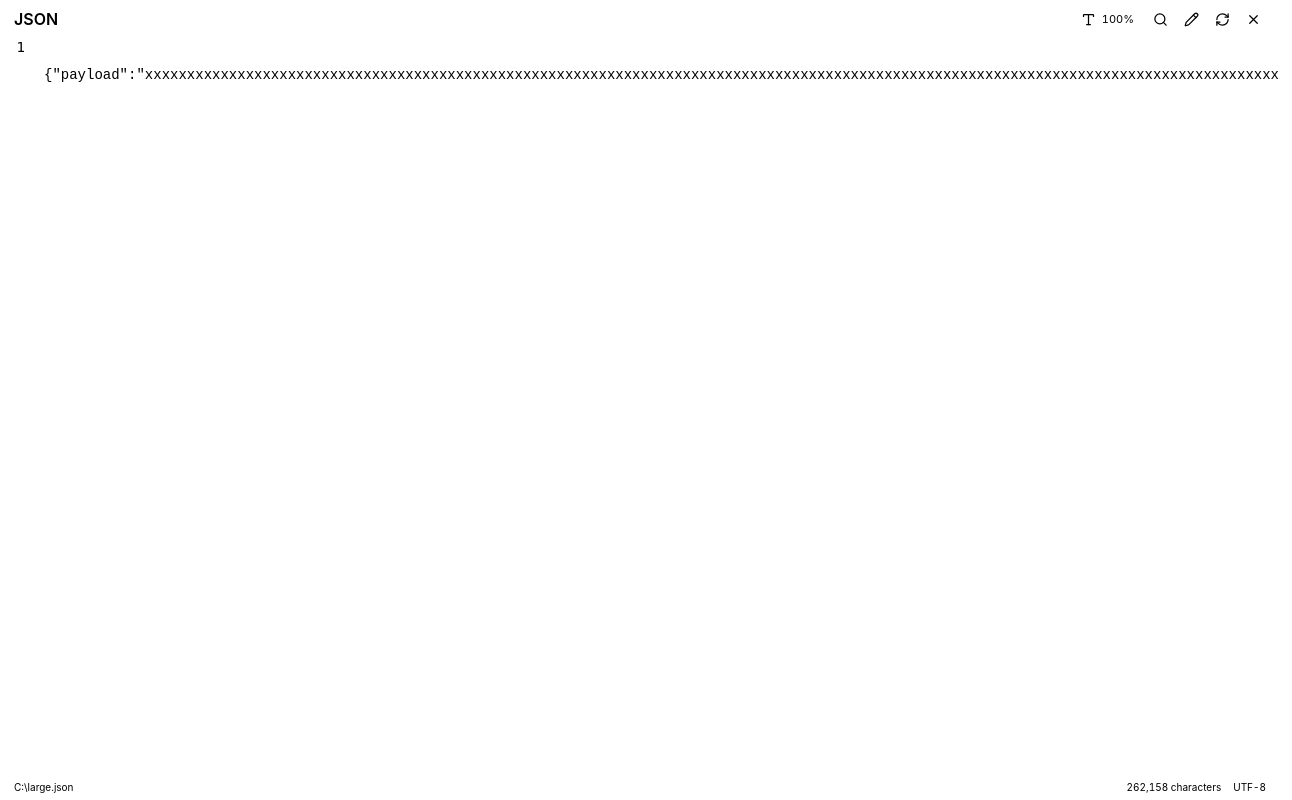
MarkdownViewer saving › defers live validation for large JSON while retaining save-time validation
Click the button titled "Edit". click: (1191, 19)
box: [1178,6,1204,32]
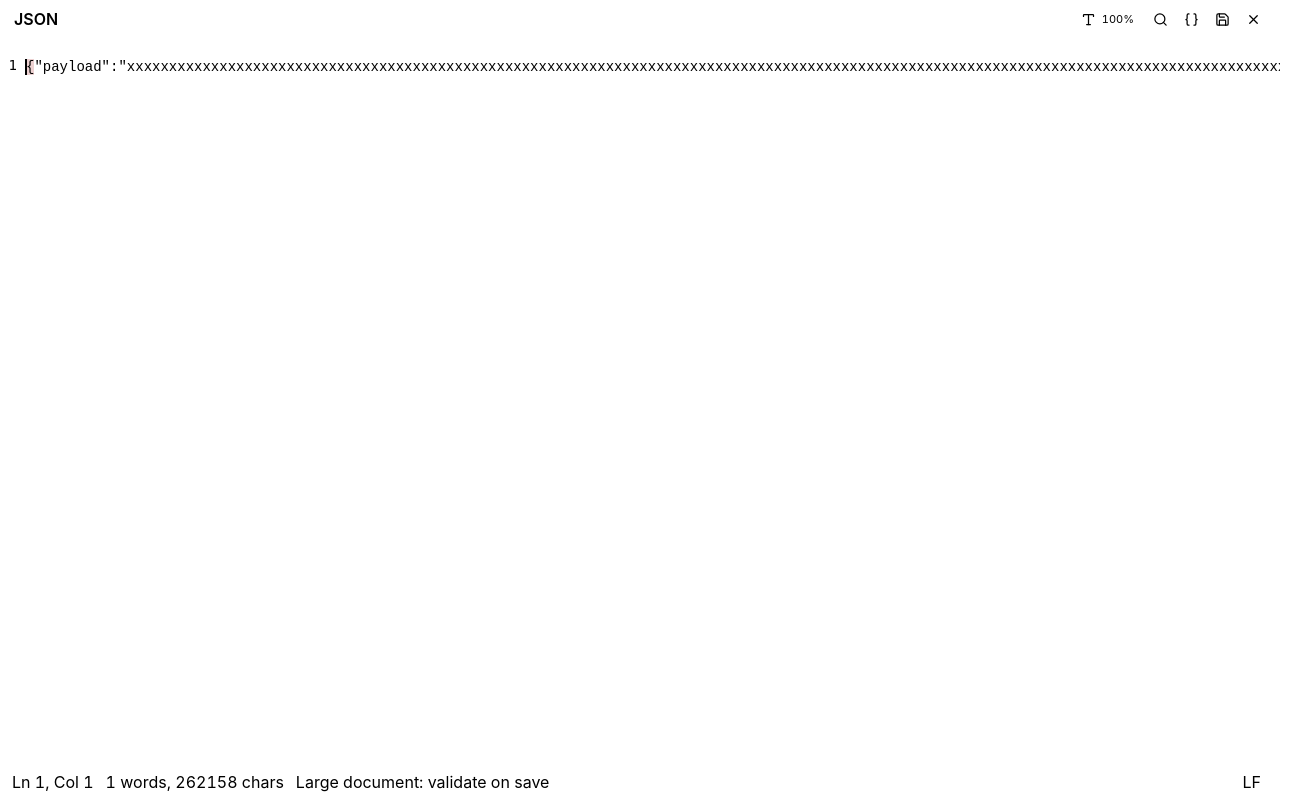
Check: the text "Large document: validate on save" is shown, box [296,770,549,794]
